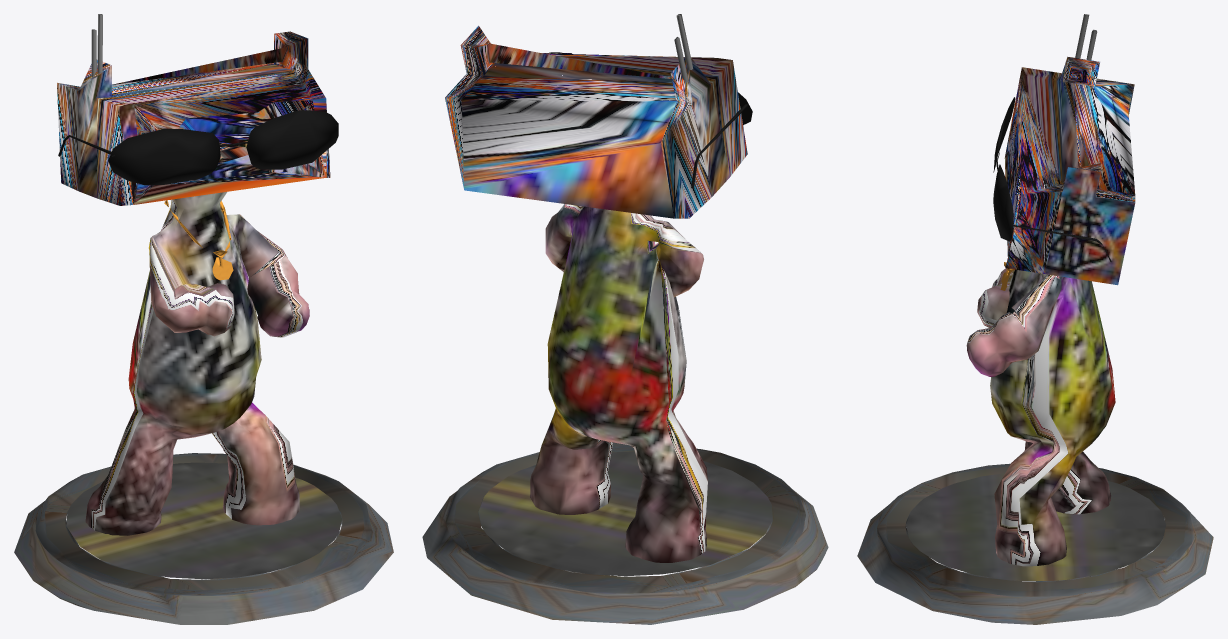
The picture shows the model from 3 angles, left to right: view 1: azimuth 30°, elevation 25°; view 2: azimuth 150°, elevation 25°; view 3: azimuth 270°, elevation 25°; orthographic projection. The views are drawn at different scales.
Bounding box in the file's own units: 1.45 × 2.23 × 1.44.
Materials: 7 (5 with a texture image).
